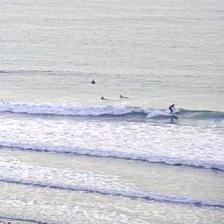surfer: (168, 104, 175, 114), (120, 95, 127, 98), (91, 80, 96, 84), (100, 96, 105, 99), (8, 102, 9, 104)
